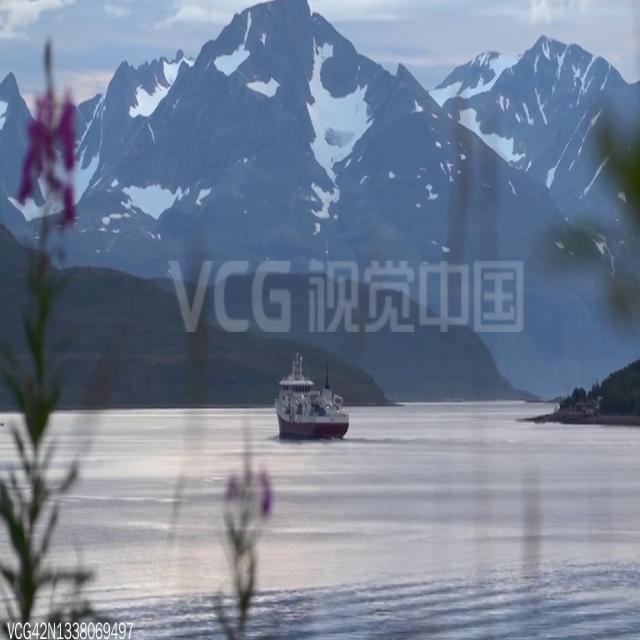houseboat: (272, 364, 346, 443)
